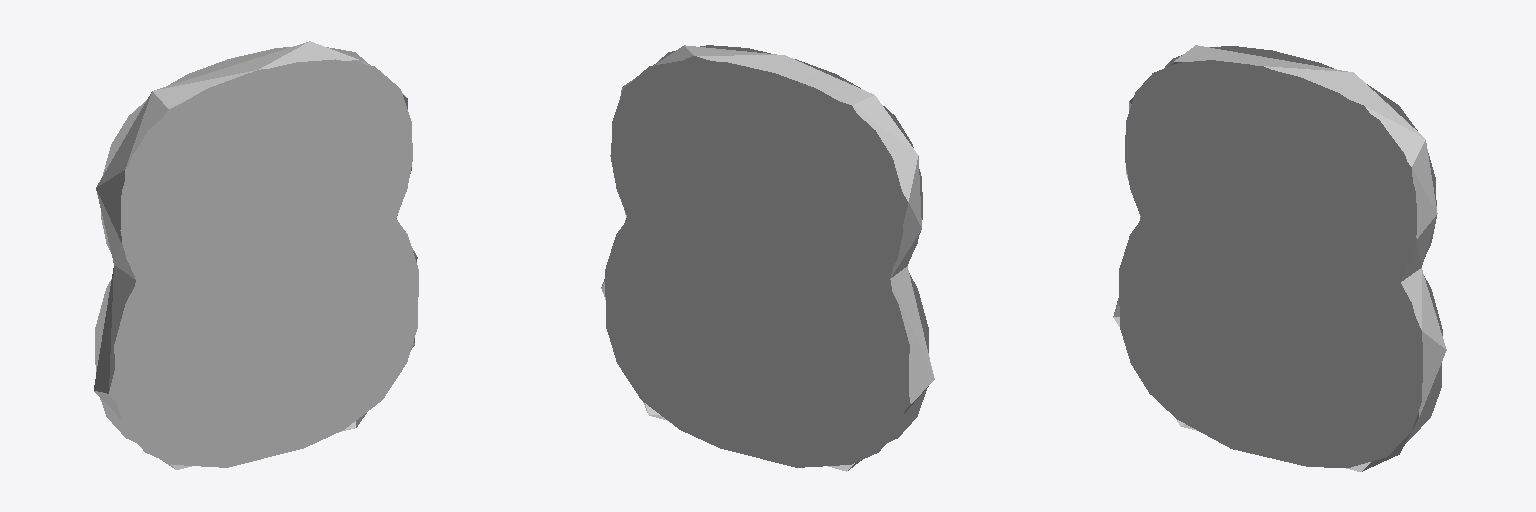
File: number8.obj
3 views of the same model, side by side, from view 1: azimuth 30°, elevation 25°; view 2: azimuth 150°, elevation 25°; view 3: azimuth 330°, elevation 25° (orthographic).
Parts seen in each view (by area): view 1: 8; view 2: 8; view 3: 8.
Boxes of the visible parts, x1=… form: 8: x1=94, y1=41, x2=418, y2=469; 8: x1=601, y1=45, x2=934, y2=471; 8: x1=1113, y1=45, x2=1446, y2=471.
Size of the model in its own units: 1.84 by 2.19 by 0.2.